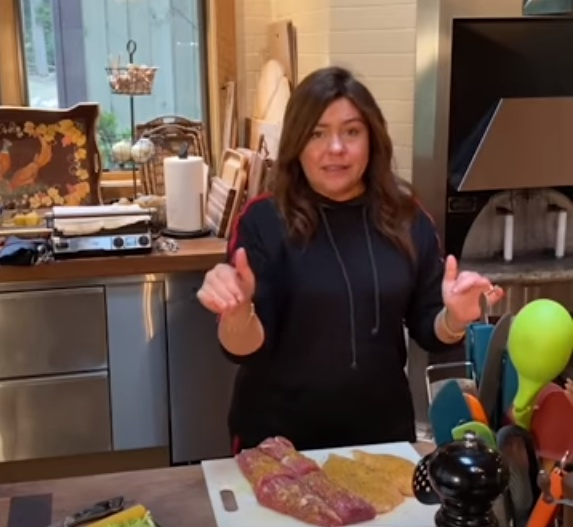mouth: (320, 163, 350, 175)
nose: (325, 145, 345, 156)
